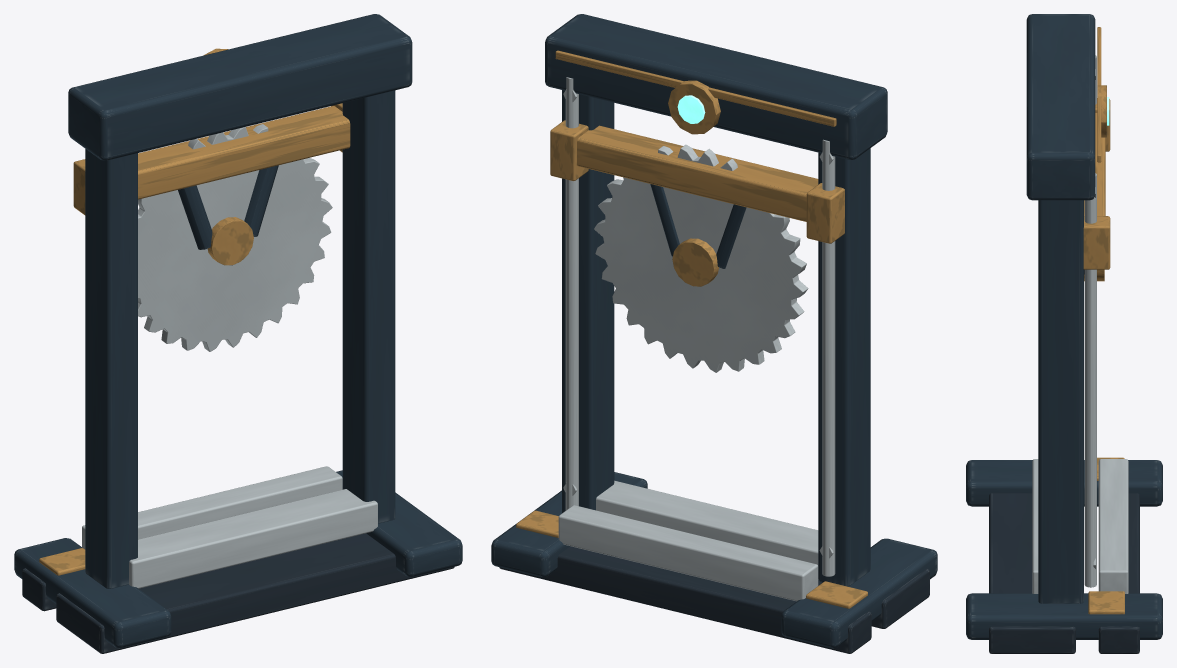
Rendered from guillotine_saw.glb.
The picture shows the model from 3 angles, left to right: view 1: azimuth 30°, elevation 25°; view 2: azimuth 150°, elevation 25°; view 3: azimuth 270°, elevation 25°; orthographic projection. The views are drawn at different scales.
Parts seen in each view (by area): view 1: v2_guillotine_saw__crown, v2_guillotine_saw__descending_saw, v2_guillotine_saw__column_neg1, v2_guillotine_saw__column_1, v2_guillotine_saw__ground_rear, v2_guillotine_saw__anvil_rear, v2_guillotine_saw__carriage, v2_guillotine_saw__foot_neg1, v2_guillotine_saw__anvil_front, v2_guillotine_saw__foot_1, v2_guillotine_saw__descending_saw_hub, v2_guillotine_saw__saw_fork_L (+4 smaller); view 2: v2_guillotine_saw__descending_saw, v2_guillotine_saw__crown, v2_guillotine_saw__column_neg1, v2_guillotine_saw__column_1, v2_guillotine_saw__anvil_front, v2_guillotine_saw__ground_front, v2_guillotine_saw__carriage, v2_guillotine_saw__anvil_rear, v2_guillotine_saw__foot_neg1, v2_guillotine_saw__guide_neg1, v2_guillotine_saw__guide_1, v2_guillotine_saw__foot_1 (+10 smaller); view 3: v2_guillotine_saw__column_1, v2_guillotine_saw__crown, v2_guillotine_saw__ground_rear, v2_guillotine_saw__foot_1, v2_guillotine_saw__guide_1, v2_guillotine_saw__foot_neg1, v2_guillotine_saw__anvil_front, v2_guillotine_saw__ground_front, v2_guillotine_saw__runner_1, v2_guillotine_saw__anvil_rear, v2_guillotine_saw__foot_trim_1, v2_guillotine_saw__carriage (+2 smaller).
Boxes of the visible parts, box(x1,y1,x2,y2) form: v2_guillotine_saw__crown: box(68, 14, 412, 160); v2_guillotine_saw__descending_saw: box(138, 124, 332, 351); v2_guillotine_saw__column_neg1: box(85, 149, 137, 588); v2_guillotine_saw__column_1: box(342, 90, 395, 523); v2_guillotine_saw__ground_rear: box(56, 533, 454, 653); v2_guillotine_saw__anvil_rear: box(129, 489, 377, 588); v2_guillotine_saw__carriage: box(138, 106, 350, 199); v2_guillotine_saw__foot_neg1: box(14, 538, 171, 647); v2_guillotine_saw__anvil_front: box(82, 466, 342, 549); v2_guillotine_saw__foot_1: box(336, 470, 462, 576); v2_guillotine_saw__descending_saw_hub: box(207, 217, 253, 265); v2_guillotine_saw__saw_fork_L: box(178, 185, 212, 249); v2_guillotine_saw__descending_saw: box(594, 144, 808, 372); v2_guillotine_saw__crown: box(545, 14, 887, 159); v2_guillotine_saw__column_neg1: box(818, 148, 870, 586); v2_guillotine_saw__column_1: box(562, 90, 614, 512); v2_guillotine_saw__anvil_front: box(558, 505, 818, 601); v2_guillotine_saw__ground_front: box(499, 546, 871, 653); v2_guillotine_saw__carriage: box(577, 125, 818, 221); v2_guillotine_saw__anvil_rear: box(596, 480, 818, 565); v2_guillotine_saw__foot_neg1: box(781, 538, 937, 648); v2_guillotine_saw__guide_neg1: box(822, 139, 835, 576); v2_guillotine_saw__guide_1: box(565, 77, 578, 510); v2_guillotine_saw__foot_1: box(491, 472, 647, 577); v2_guillotine_saw__column_1: box(1038, 200, 1083, 603); v2_guillotine_saw__crown: box(1026, 14, 1095, 200); v2_guillotine_saw__ground_rear: box(989, 493, 1075, 653); v2_guillotine_saw__foot_1: box(966, 593, 1162, 639); v2_guillotine_saw__guide_1: box(1084, 173, 1096, 587); v2_guillotine_saw__foot_neg1: box(966, 460, 1162, 506); v2_guillotine_saw__anvil_front: box(1098, 459, 1128, 593); v2_guillotine_saw__ground_front: box(1098, 493, 1139, 653); v2_guillotine_saw__runner_1: box(1083, 216, 1110, 269); v2_guillotine_saw__anvil_rear: box(1032, 459, 1038, 593); v2_guillotine_saw__foot_trim_1: box(1088, 591, 1124, 614); v2_guillotine_saw__carriage: box(1084, 113, 1105, 215).
Bounding box in the file's own units: 1.68 × 2.37 × 0.86.
Materials: 2 (2 with a texture image).
